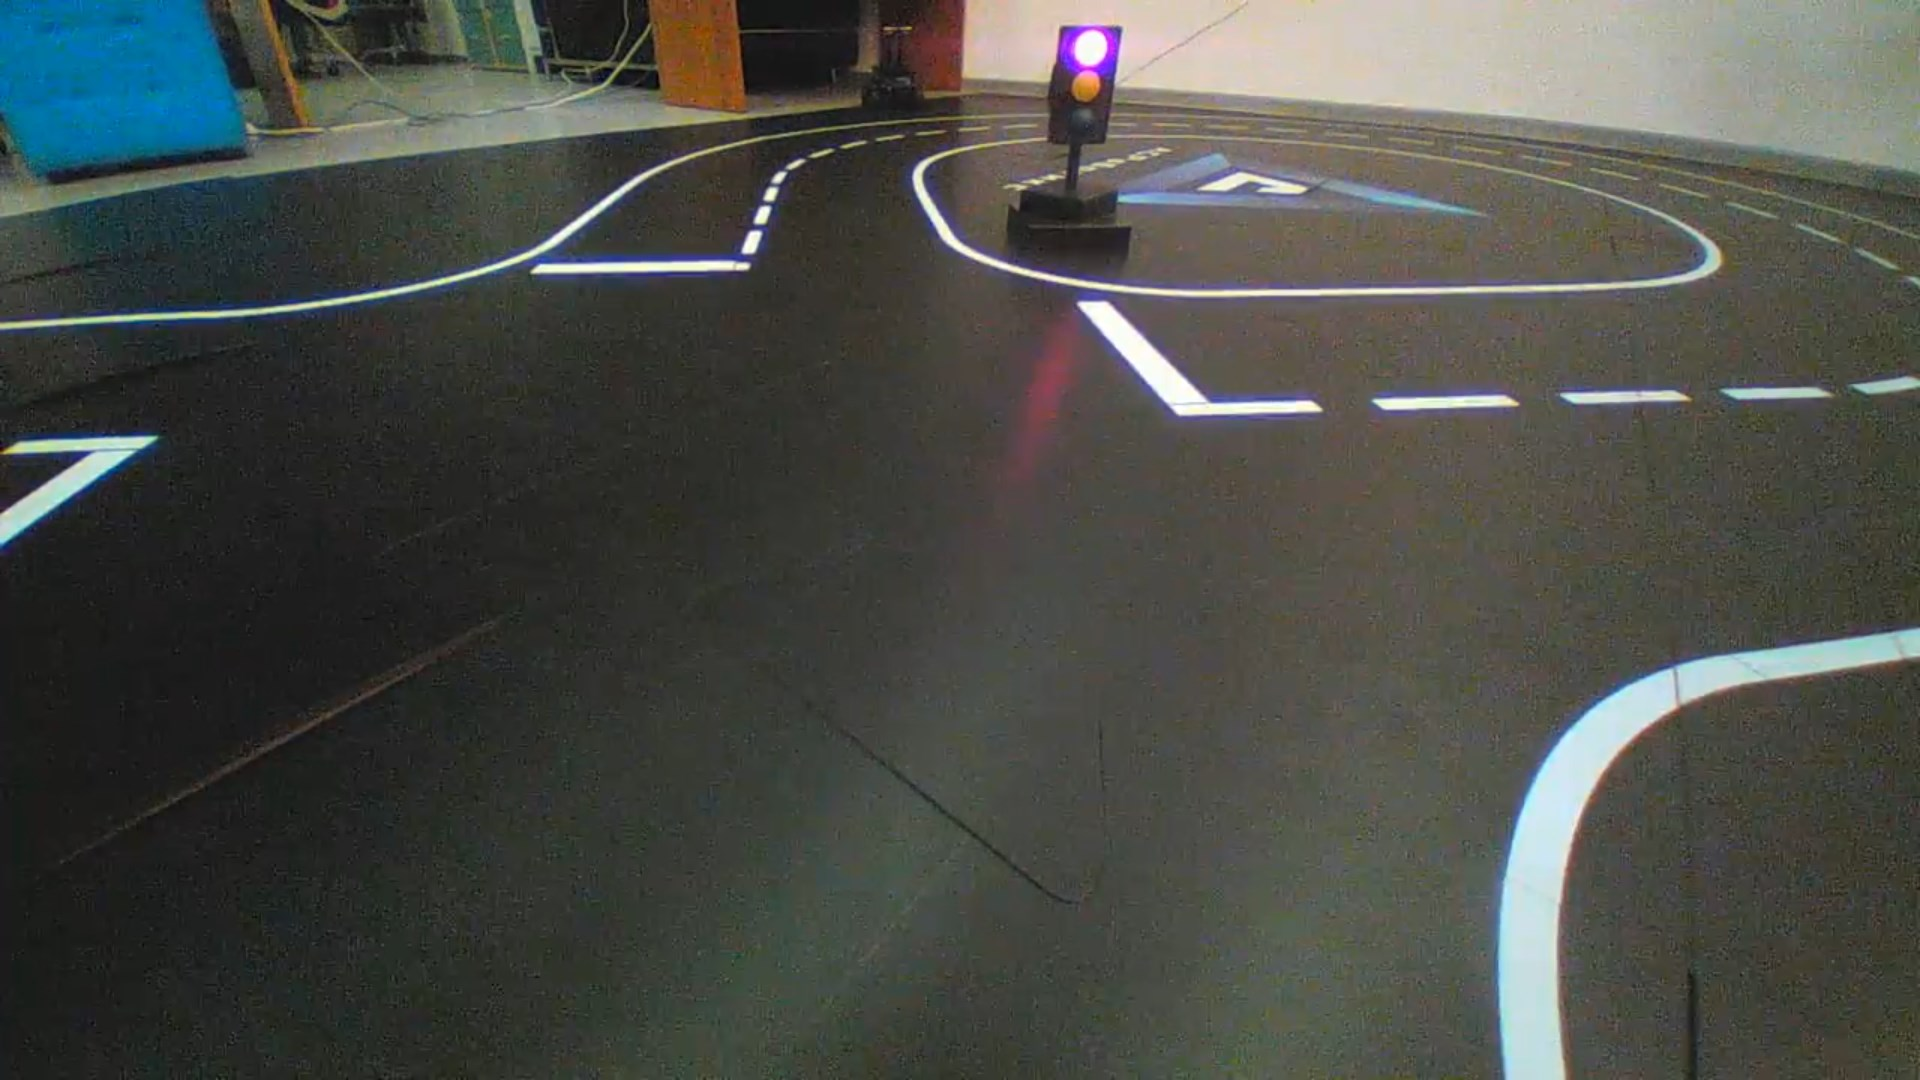trafficlight: (1044, 24, 1124, 146)
